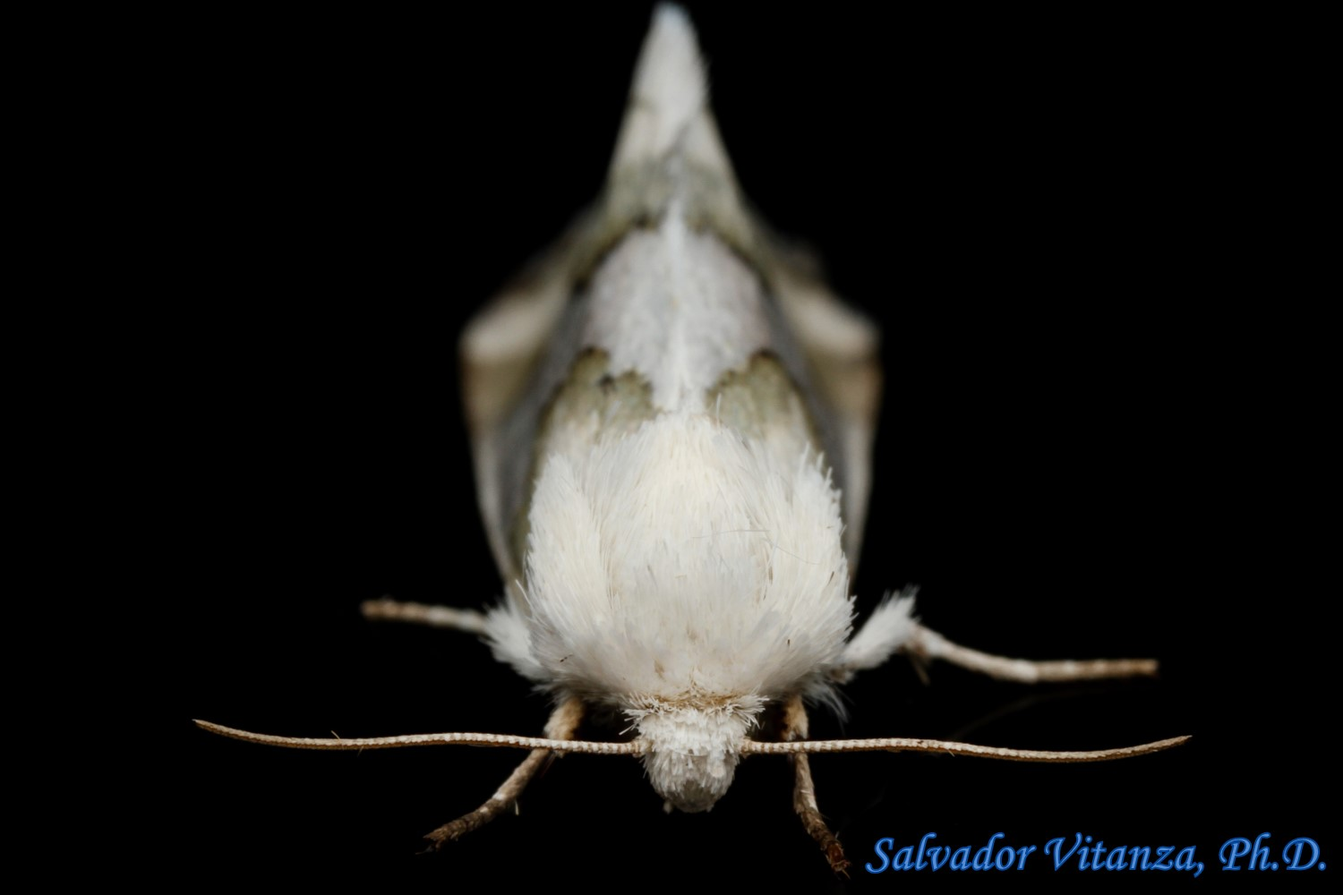Noctuidae: (187, 12, 1194, 838)
